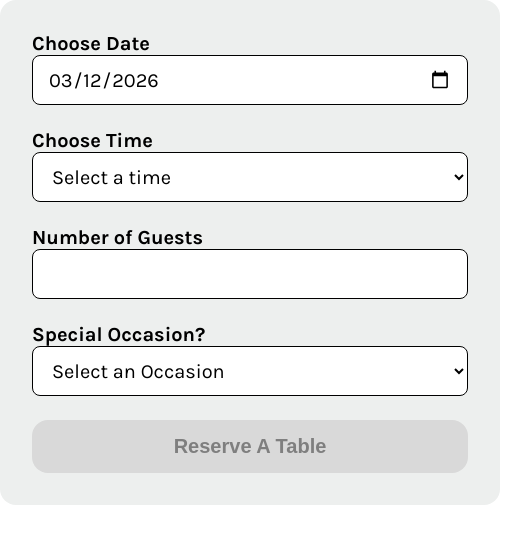
submit button becomes enabled when form is valid
Type "4" into the number field labelled "Number of Guests". click: (250, 274)
box: [32,249,468,299]
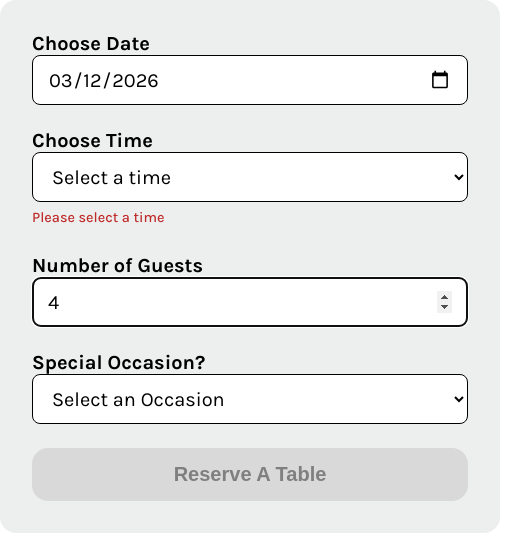
Select "17:00" in the dropdown labelled "Choose Time". click: (250, 177)
box: [32,152,468,202]
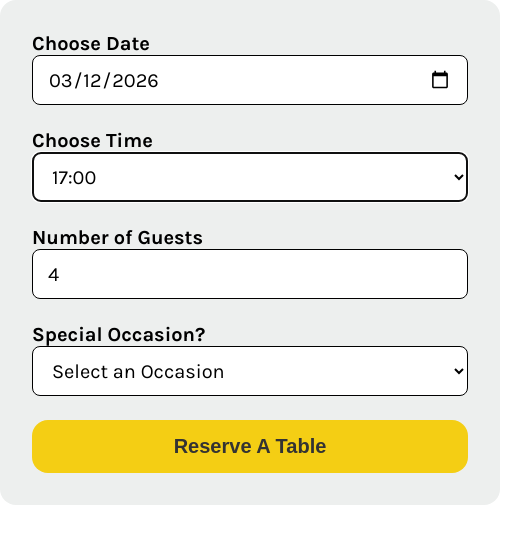
Now the button "Reserve A Table" is enabled, box [32,420,468,473]
